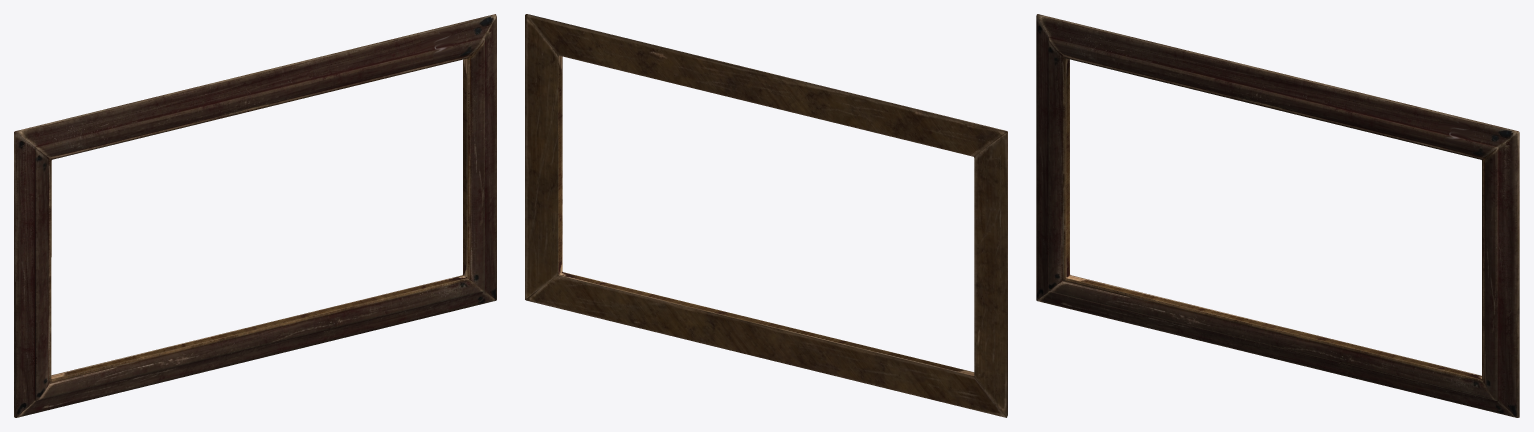
File: FrameBrkn.fbx
The picture shows the model from 3 angles, left to right: view 1: azimuth 30°, elevation 25°; view 2: azimuth 150°, elevation 25°; view 3: azimuth 330°, elevation 25°; orthographic projection.
Parts seen in each view (by area): view 1: Frame; view 2: Frame; view 3: Frame.
Part boxes in pixels (bbox=[...]): Frame: bbox=[14, 14, 496, 417]; Frame: bbox=[525, 14, 1007, 417]; Frame: bbox=[1036, 14, 1519, 417].
Size of the model in its own units: 60.18 by 34.16 by 1.29.
1 material, 1 textured.
